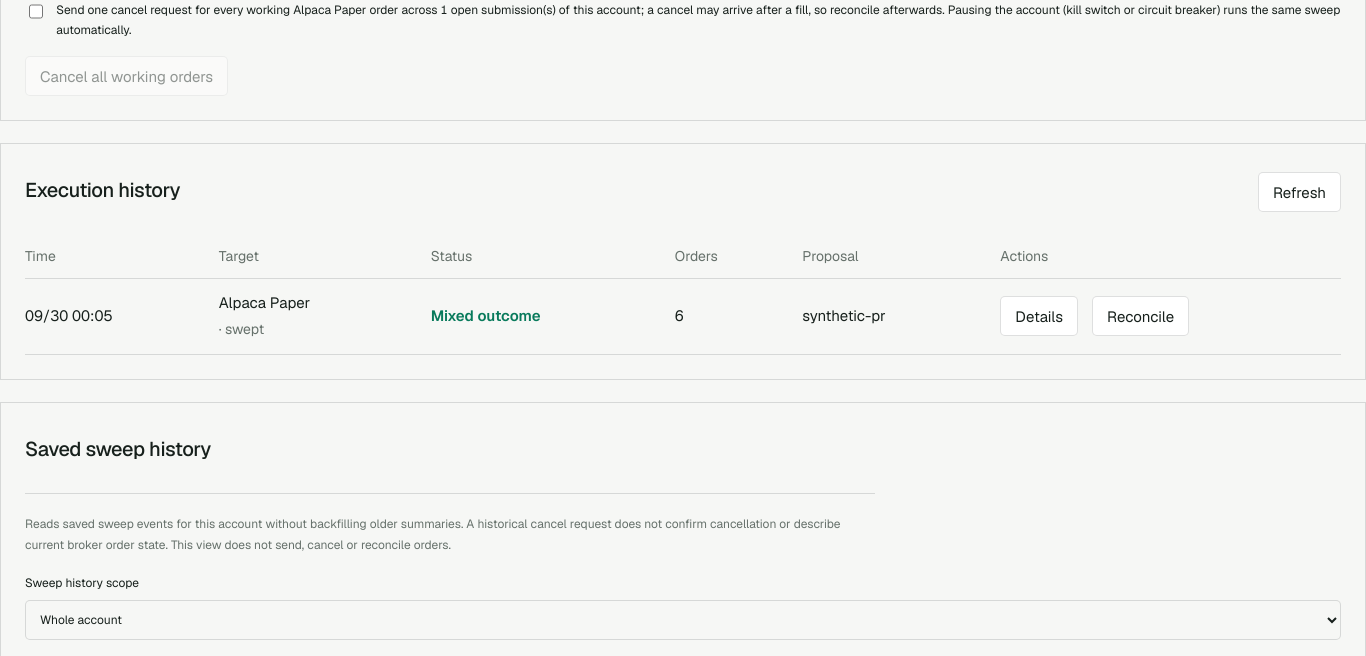
Scenario: loads immutable sweep history only on demand and never turns the legacy last summary into a history event
(page scrolled)
Click the button "Details" at (1039, 316), box [1000,296,1078,336]
(page scrolled)
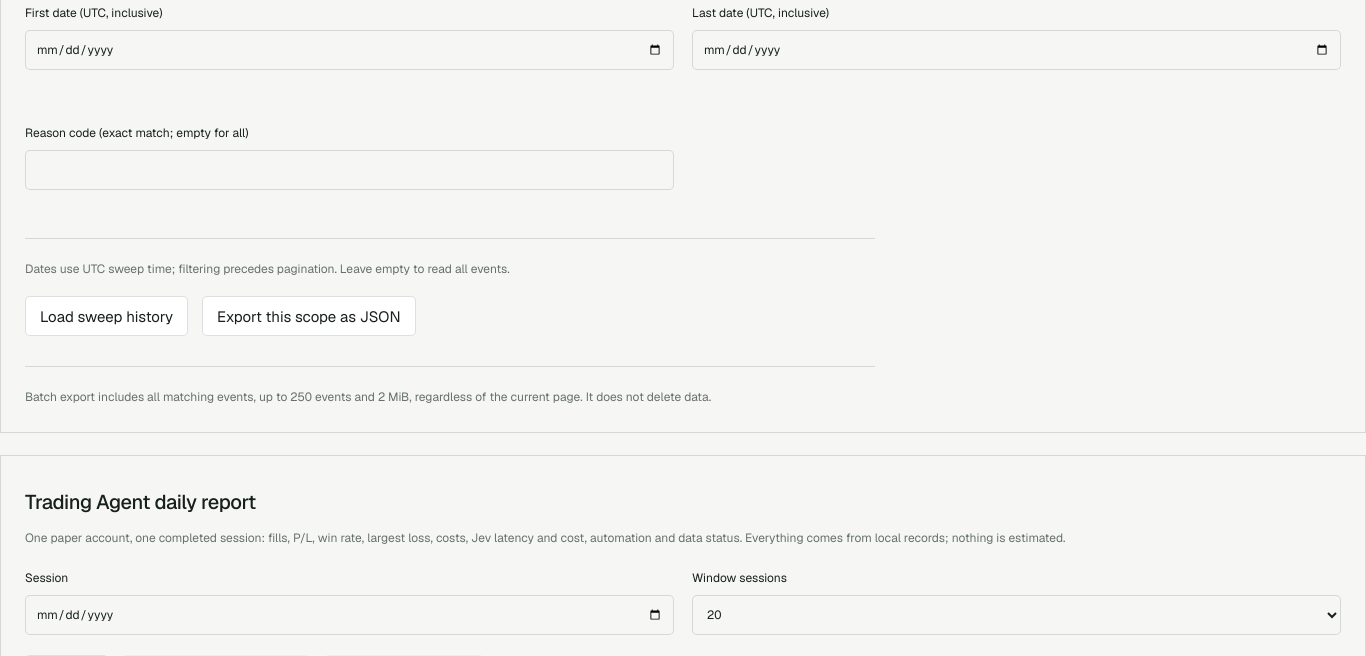
Click the button "Load sweep history" at (107, 316), box [25,296,188,336]
(page scrolled)
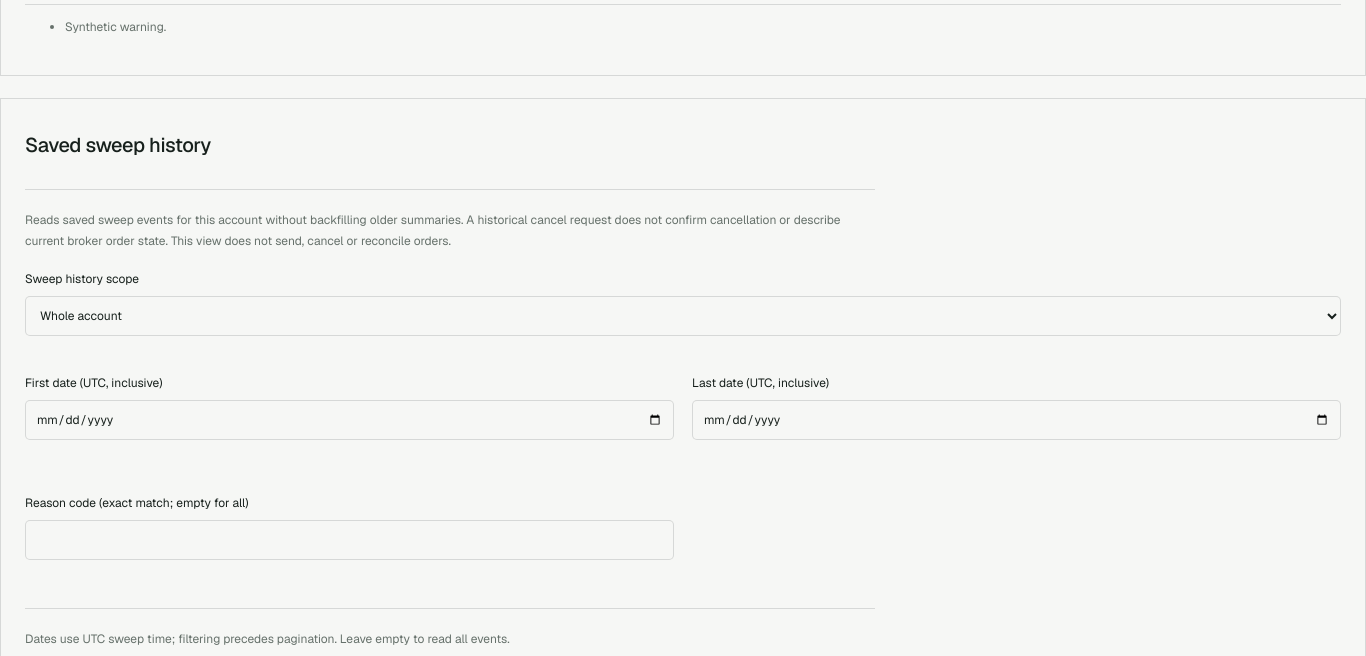
Select "Currently selected submission" in the dropdown labelled "Sweep history scope" at (683, 316), box [25,296,1341,336]
(page scrolled)
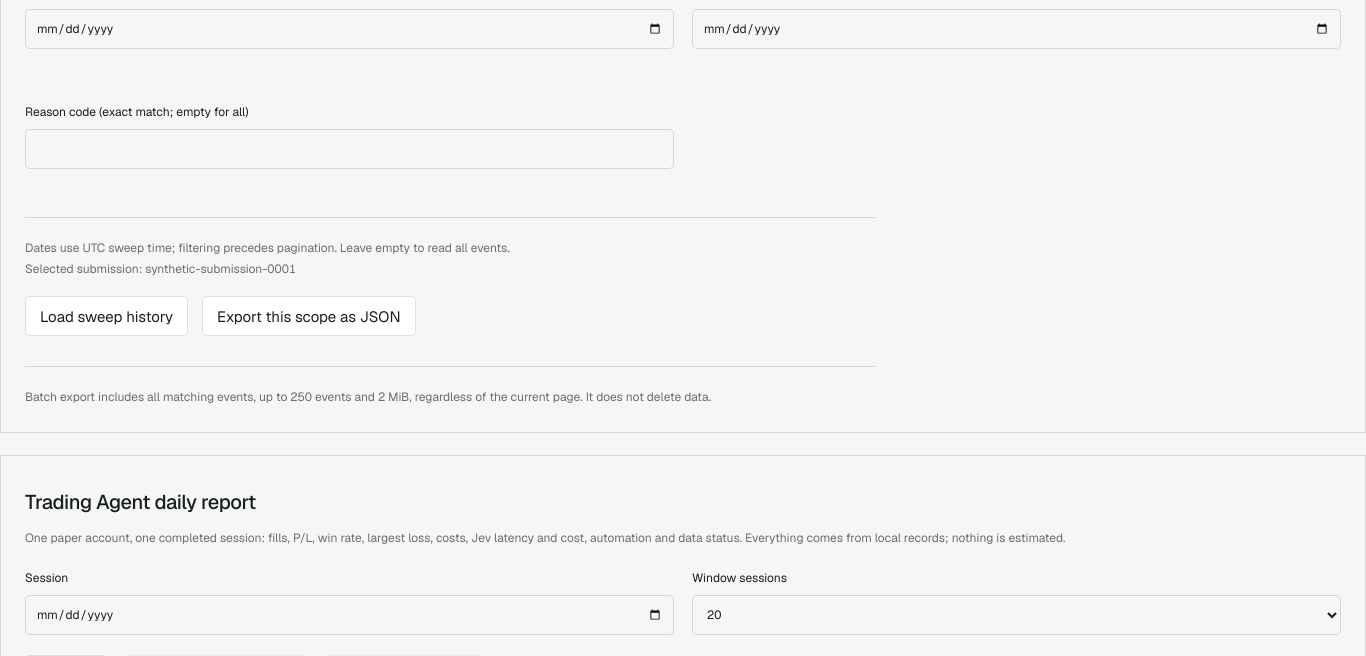
Click the button "Load sweep history" at (107, 316), box [25,296,188,336]
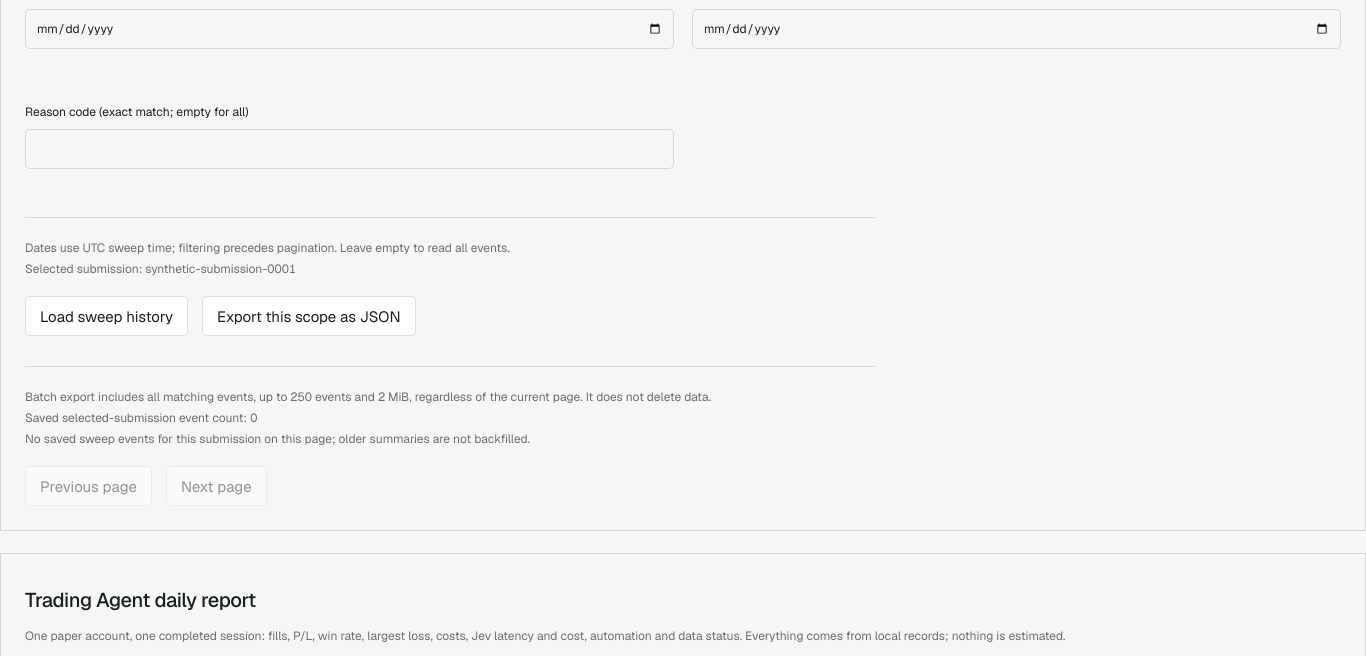
Expected: the text "No saved sweep events for this submission on this page; older summaries are not backfilled." is shown, [25,431,530,447]
